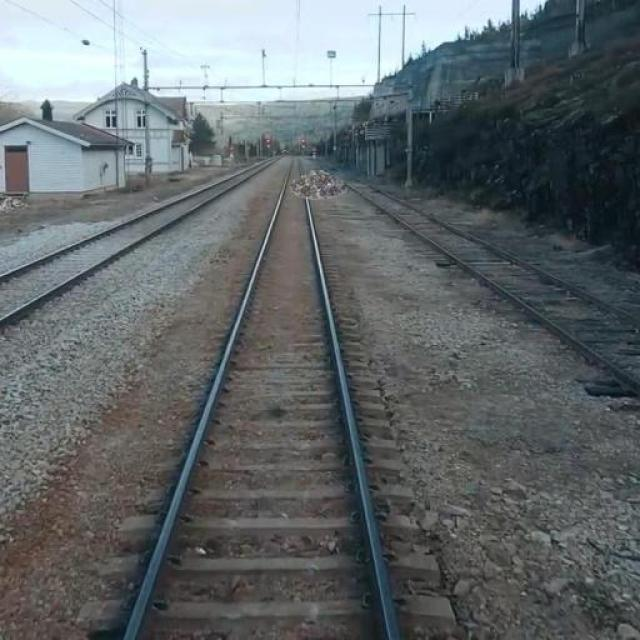Stone: (282, 166, 354, 204)
